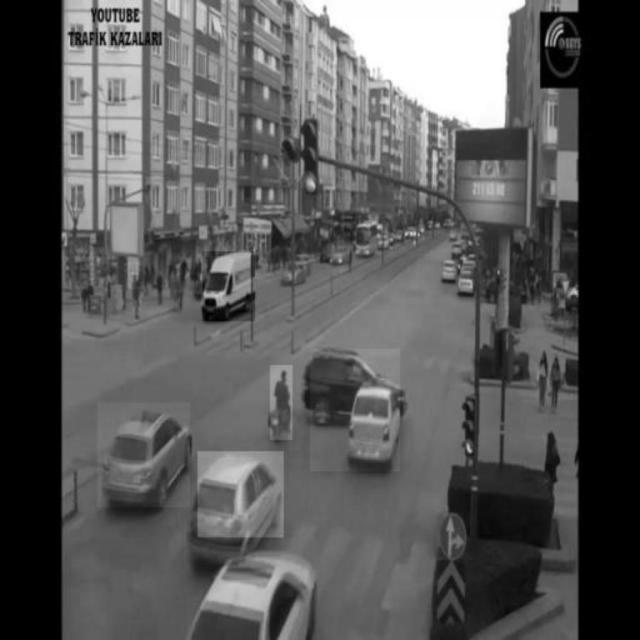accident: (310, 349, 401, 471)
vehicle: (187, 537, 317, 640), (97, 403, 189, 507), (198, 451, 284, 559), (203, 252, 255, 322), (271, 365, 293, 439)
